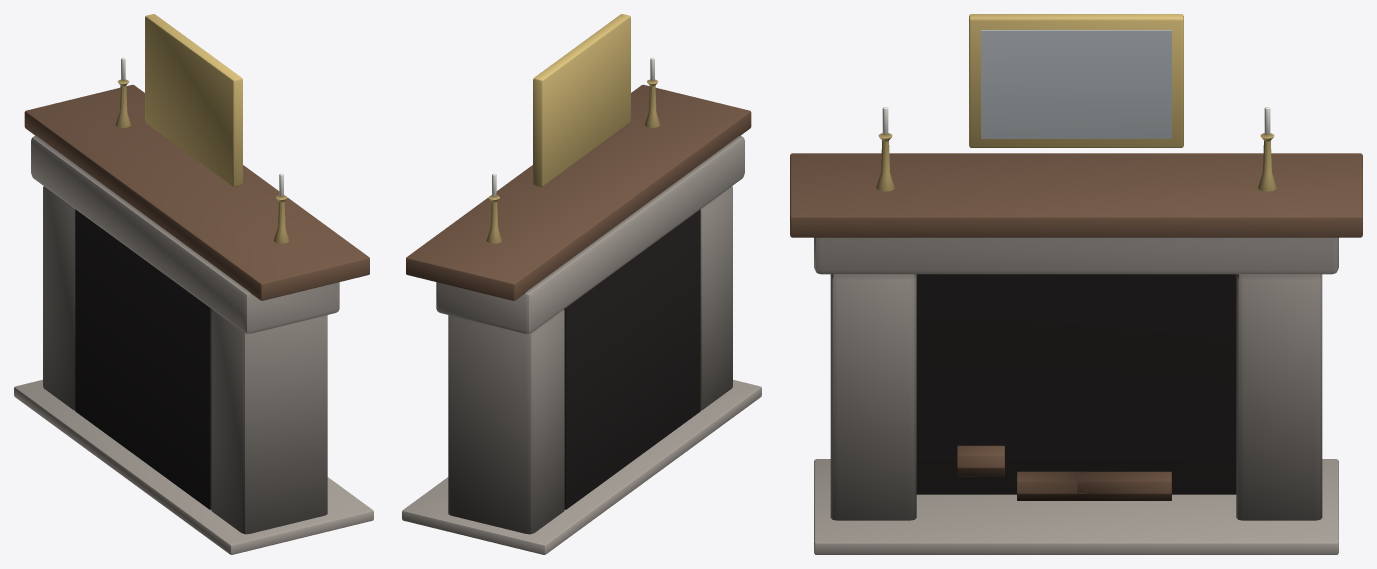
The model's file is hearth.glb.
3 views of the same model, side by side, from view 1: azimuth 30°, elevation 25°; view 2: azimuth 150°, elevation 25°; view 3: azimuth 270°, elevation 25° (orthographic). The views are drawn at different scales.
Parts seen in each view (by area): view 1: boat_stone3, boat_soot, boat_darkwood, boat_gilt, boat_brass2; view 2: boat_stone3, boat_soot, boat_darkwood, boat_gilt, boat_brass2; view 3: boat_stone3, boat_soot, boat_darkwood, boat_mirrorg, boat_gilt, boat_brass2.
Part boxes in pixels (<box>): boat_stone3: <box>14,136,373,554</box>; boat_soot: <box>75,209,211,509</box>; boat_darkwood: <box>24,84,369,300</box>; boat_gilt: <box>145,14,242,186</box>; boat_brass2: <box>115,79,289,243</box>; boat_stone3: <box>402,136,761,554</box>; boat_soot: <box>564,209,700,509</box>; boat_darkwood: <box>406,84,751,300</box>; boat_gilt: <box>533,14,630,186</box>; boat_brass2: <box>486,79,660,243</box>; boat_stone3: <box>814,237,1338,554</box>; boat_soot: <box>916,274,1236,494</box>; boat_darkwood: <box>790,153,1362,500</box>; boat_mirrorg: <box>981,30,1171,138</box>; boat_gilt: <box>969,14,1183,147</box>; boat_brass2: <box>876,133,1276,191</box>.
Size of the model in its own units: 0.84 by 2.3 by 2.4.
